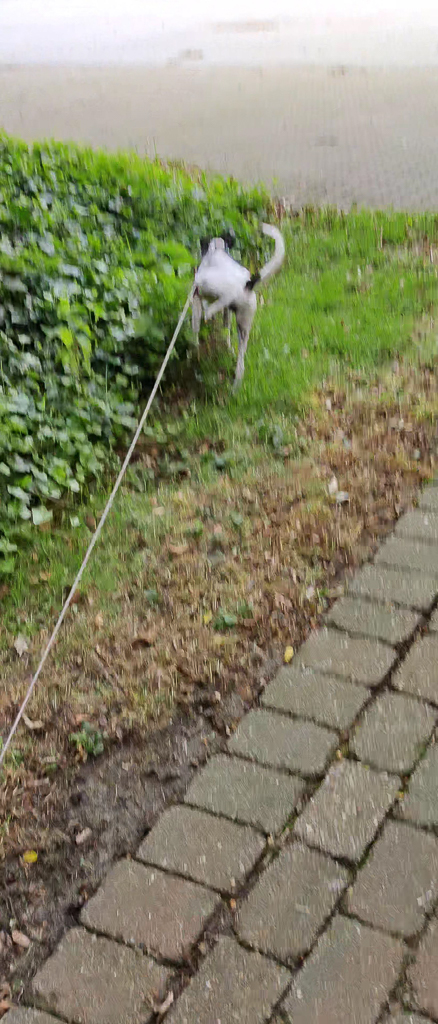Dog: (171, 214, 307, 390)
